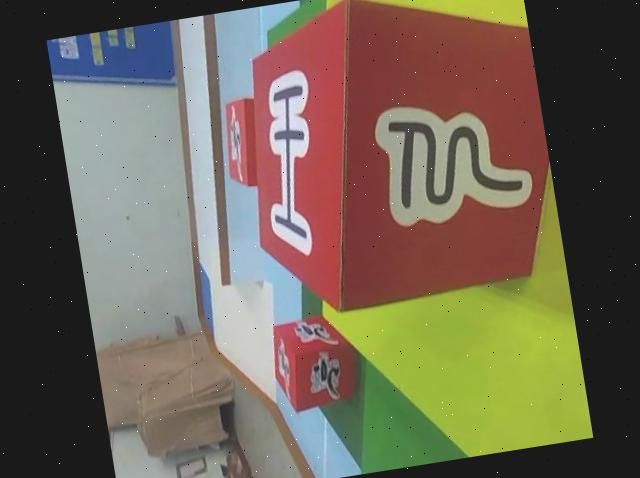R1: (260, 307, 372, 416)
R2 Fake: (217, 0, 568, 326)
